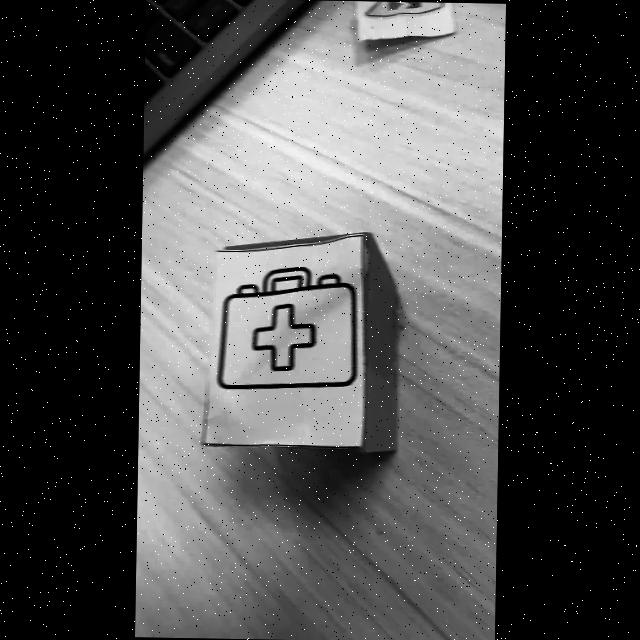Medkit: (216, 267, 356, 389), (248, 323, 316, 376)
